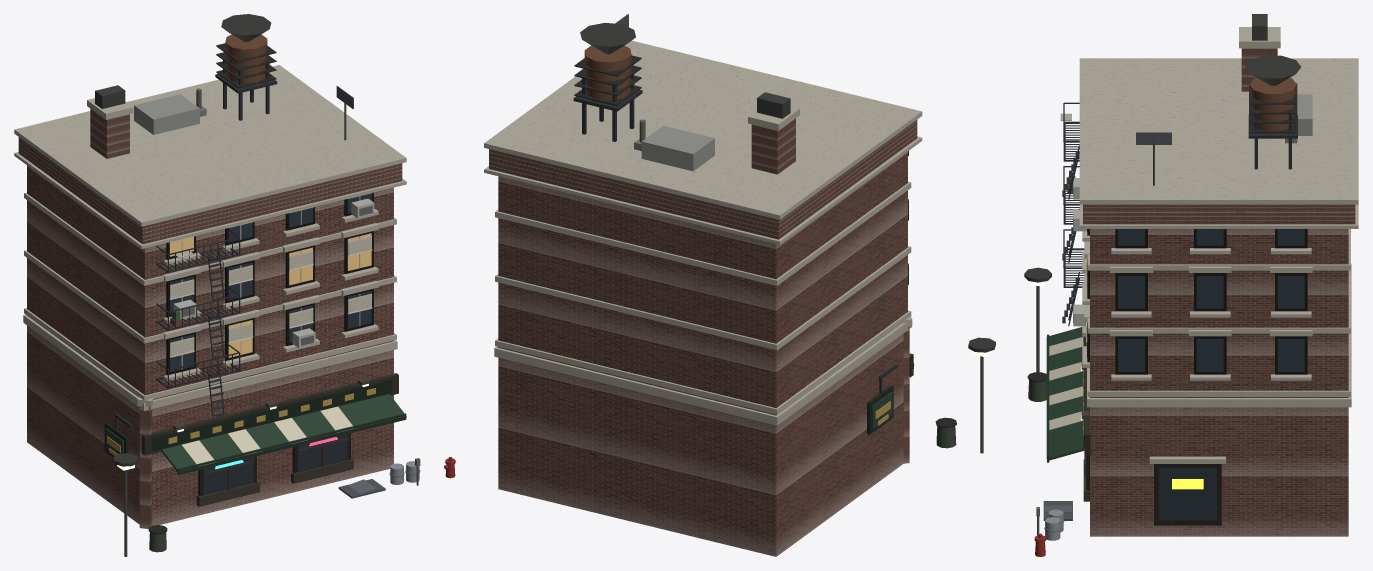
File: jersey_tavern.glb
3 renders of one model, left to right at view 1: azimuth 30°, elevation 25°; view 2: azimuth 150°, elevation 25°; view 3: azimuth 270°, elevation 25°, orthographic. The views are drawn at different scales.
Size of the model in its own units: 19.17 by 21.35 by 14.87.
4 materials, 4 textured.
